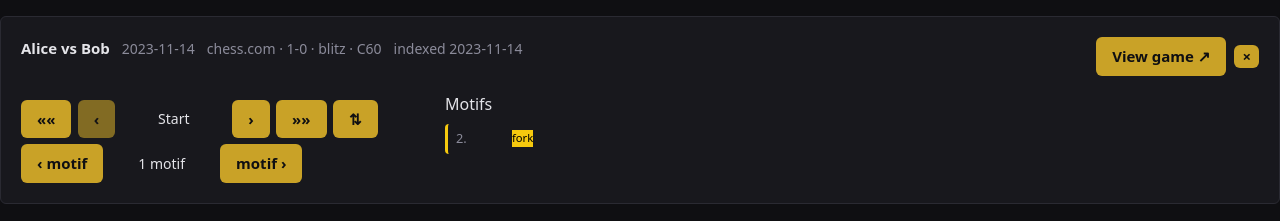
Test case: GameDetailPanel › go-to-start resets to initial position
What coordinates should you click on to do the following:
click the button named "Next move"
I would click on:
 (251, 119)
Its box is x1=232 y1=100 x2=270 y2=138.
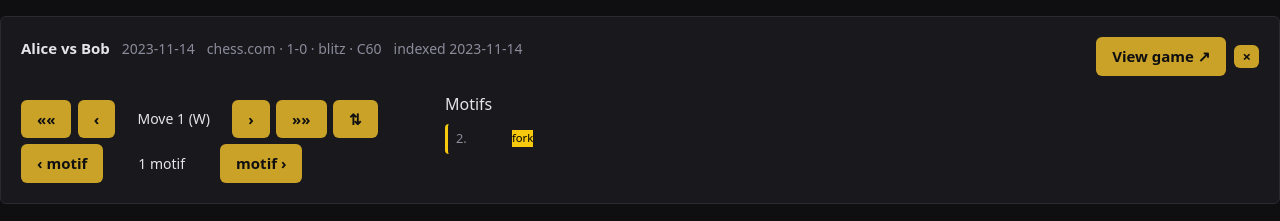
What coordinates should you click on to do the following:
click the button named "Next move"
I would click on:
 (251, 119)
Its box is x1=232 y1=100 x2=270 y2=138.
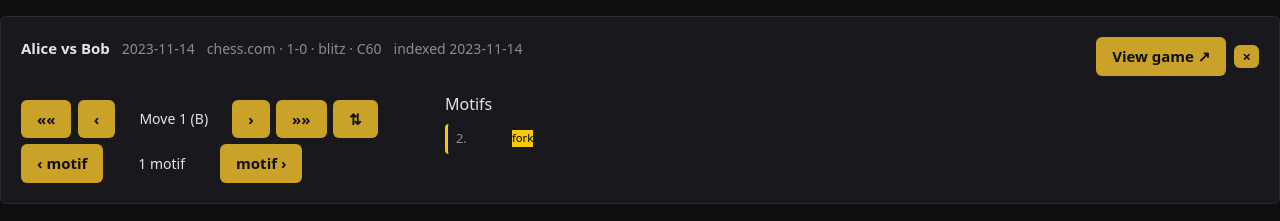
What coordinates should you click on to do the following:
click the button named "Go to start"
I would click on:
 (46, 119)
Its box is x1=21 y1=100 x2=72 y2=138.
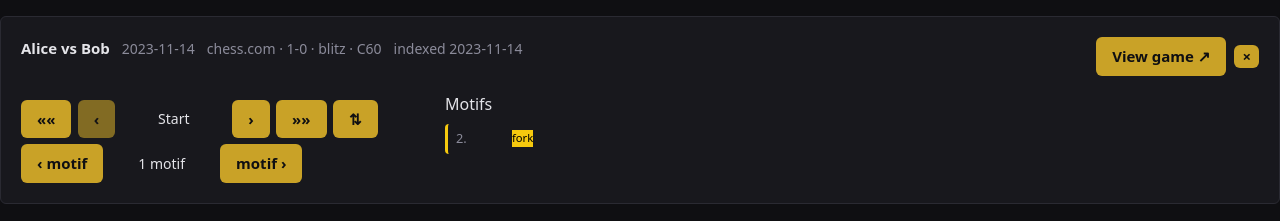
Expected: the text "Start" is shown, x1=158 y1=109 x2=189 y2=128
